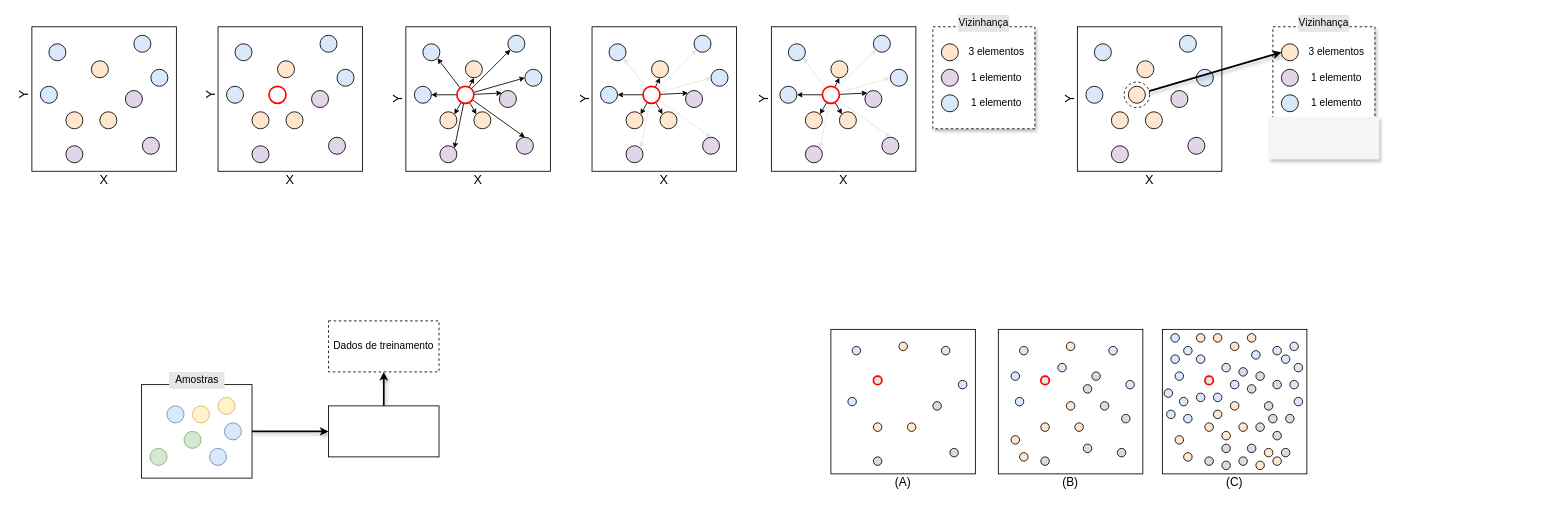
Image size: 1550x505. Some labels were removed from this diagram. Here are the shapes that lost their labels. From the top down, the centre of each, then its label:
the point at 1324,139: Usa a classe predominante na vizinhança
the point at 383,431: Classificação
